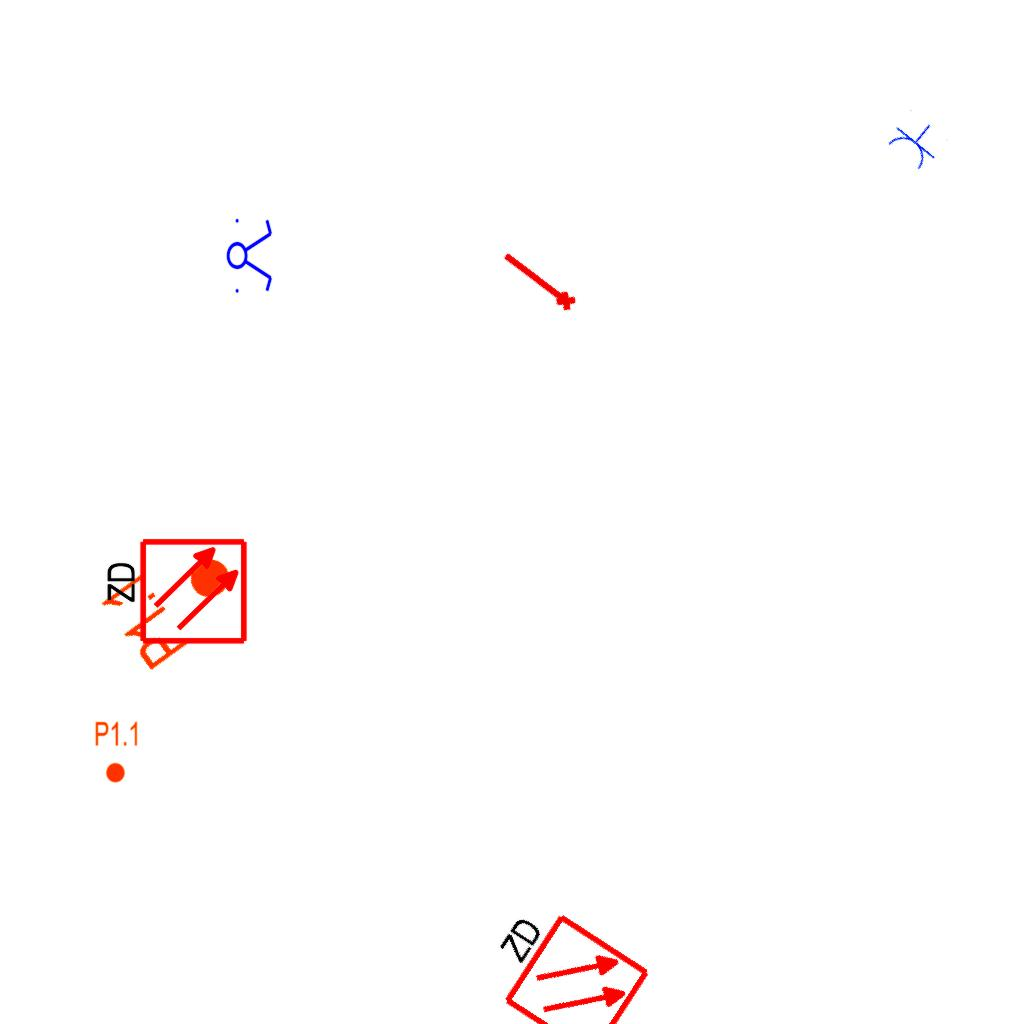ASR_Ansaugoeffnung: (495, 245, 581, 318)
Downlight_LED_Einbauleuchten_Flur: (95, 524, 254, 676), (94, 720, 140, 784)
Schukosteckdose_einfach: (883, 109, 949, 174)
Serienschalter: (226, 213, 274, 297)
ZD_Melder_in_Zwischendecke_mit_Revisionsoeffnung_mind_40_x_40_cm: (466, 889, 654, 1024), (100, 536, 249, 650)
